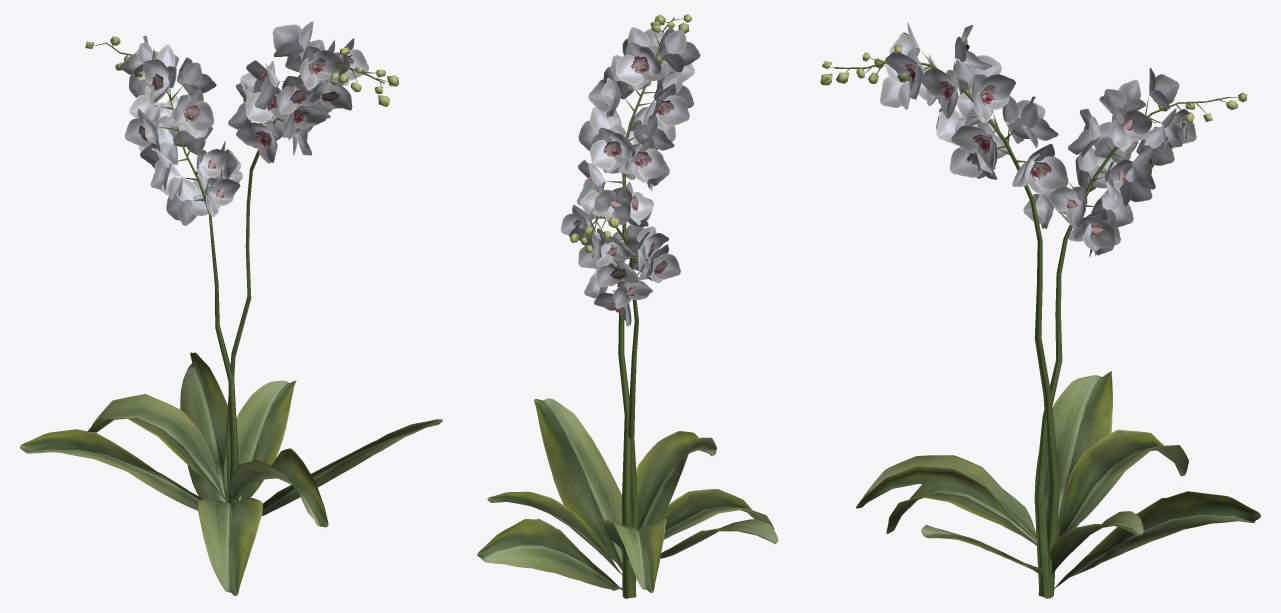
File: Bulbophyllum_Phalaenopsis_Autumn_Adult.glb
3 renders of one model, left to right at view 1: azimuth 30°, elevation 25°; view 2: azimuth 150°, elevation 25°; view 3: azimuth 270°, elevation 25°, orthographic. The views are drawn at different scales.
Parts seen in each view (by area): view 1: Bulbophyllum_Phalaenopsis_Autumn_Adult__LOD3; view 2: Bulbophyllum_Phalaenopsis_Autumn_Adult__LOD3; view 3: Bulbophyllum_Phalaenopsis_Autumn_Adult__LOD3.
Part boxes in pixels (x1,y1,x2,y2): Bulbophyllum_Phalaenopsis_Autumn_Adult__LOD3: (20,21,442,595); Bulbophyllum_Phalaenopsis_Autumn_Adult__LOD3: (477,14,778,598); Bulbophyllum_Phalaenopsis_Autumn_Adult__LOD3: (820,22,1260,598).
Size of the model in its own units: 0.459 by 0.6903 by 0.4778.
Materials: 2 (2 with a texture image).
